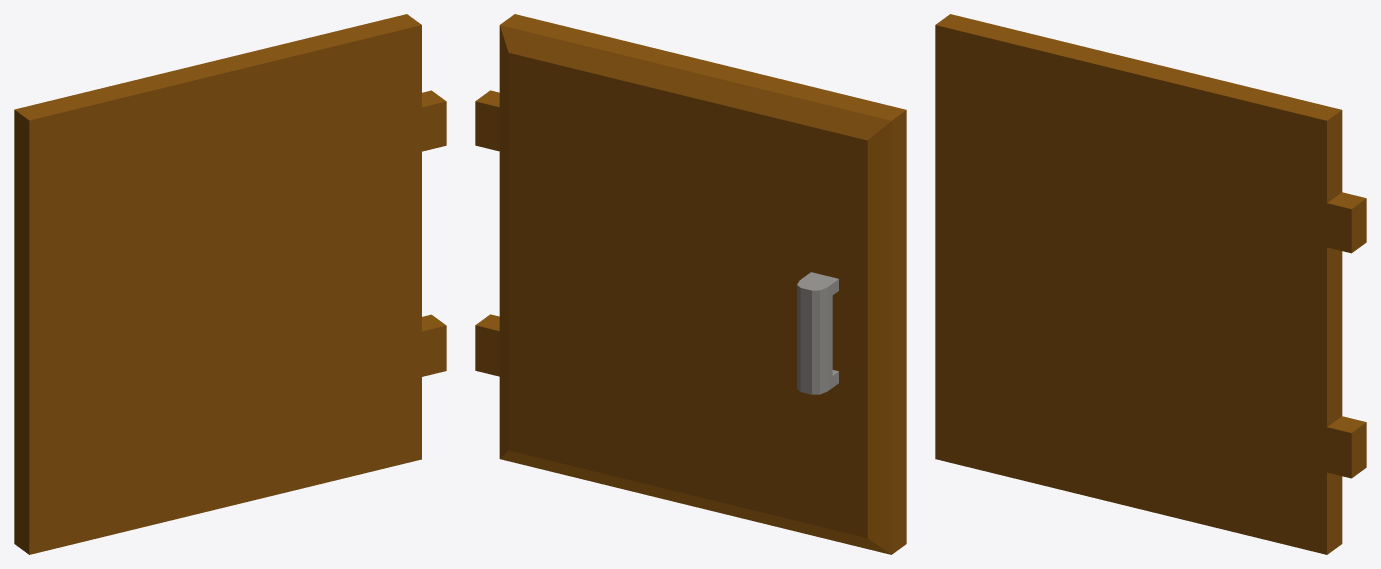
File: TV_Stand_Door_Left.fbx
3 views of the same model, side by side, from view 1: azimuth 30°, elevation 25°; view 2: azimuth 150°, elevation 25°; view 3: azimuth 330°, elevation 25° (orthographic).
Parts seen in each view (by area): view 1: Cube.056; view 2: Cube.056; view 3: Cube.056.
Boxes of the visible parts, x1,y1,x2,y2 form: Cube.056: (14,14,446,554); Cube.056: (475,14,906,554); Cube.056: (935,14,1366,554).
Size of the model in its own units: 78.54 by 78.2 by 13.6.
